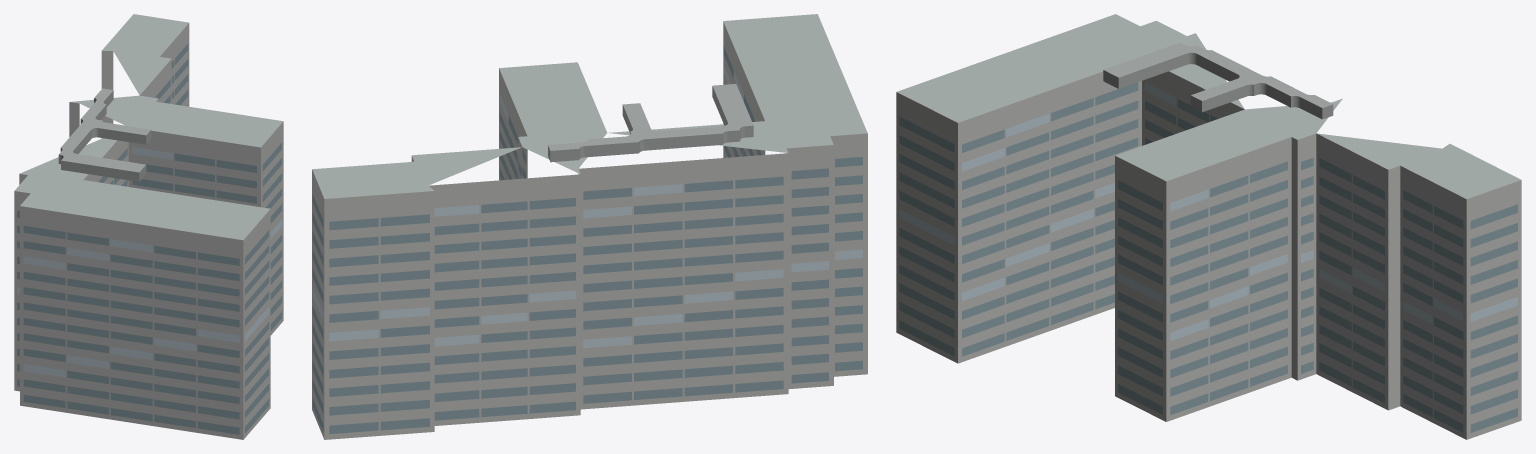
File: apt-a13184401.glb
3 renders of one model, left to right at view 1: azimuth 30°, elevation 25°; view 2: azimuth 150°, elevation 25°; view 3: azimuth 270°, elevation 25°, orthographic. The views are drawn at different scales.
Visible parts, largest first — view 1: apt-a13184401; view 2: apt-a13184401; view 3: apt-a13184401.
Boxes of the visible parts, x1,y1,x2,y2 form: apt-a13184401: (14, 14, 283, 439); apt-a13184401: (312, 14, 867, 439); apt-a13184401: (896, 14, 1521, 439).
Size of the model in its own units: 74.1 by 47 by 106.
